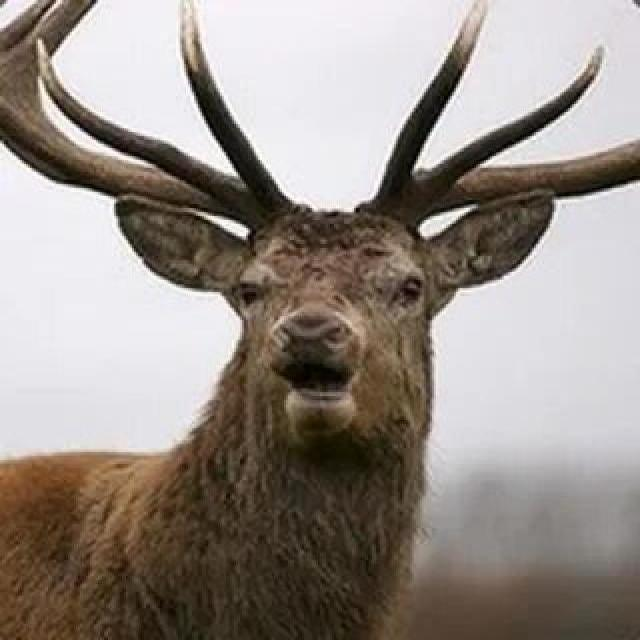deer: (65, 10, 640, 640)
